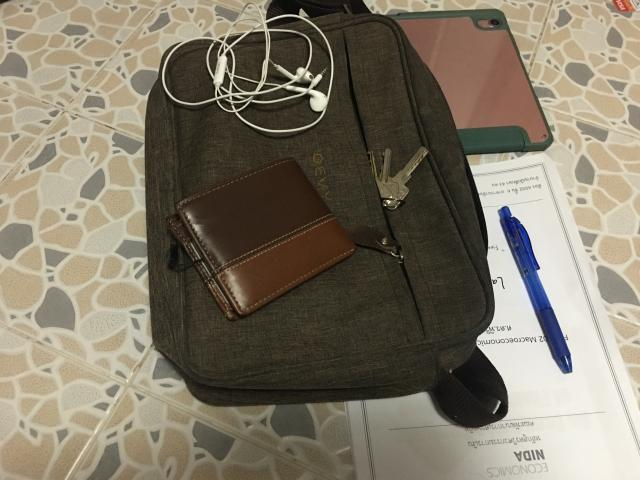Keys: (368, 146, 429, 210)
Pen: (499, 206, 572, 374)
Wallet: (168, 158, 356, 320)
paper: (313, 154, 640, 479)
wire: (161, 1, 334, 134)
